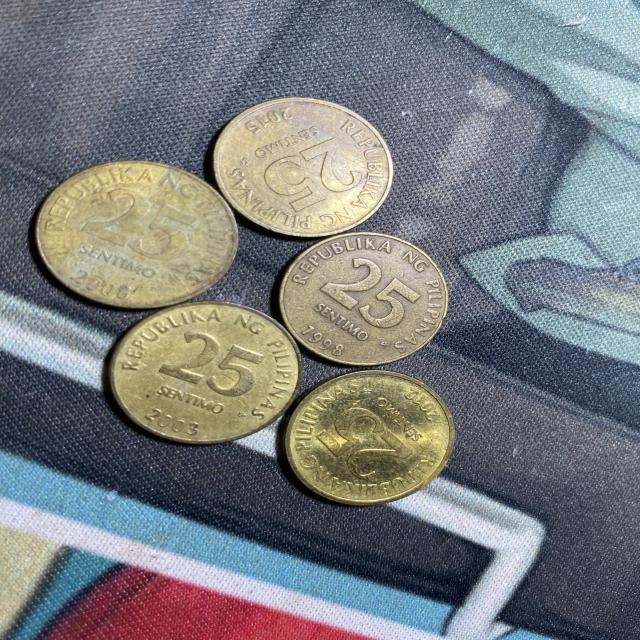25Cent_Old_Front: (81, 187, 197, 264), (323, 254, 418, 334), (267, 137, 364, 212), (316, 405, 411, 481), (160, 330, 264, 398)
